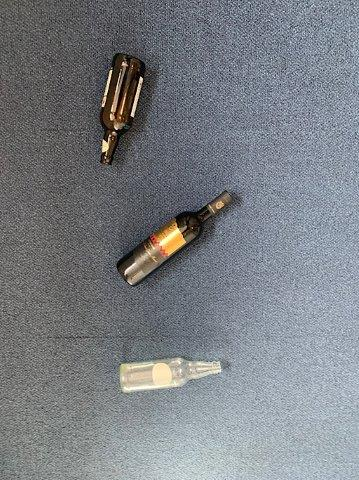botolkaca: (118, 191, 233, 285), (97, 54, 151, 166), (120, 357, 222, 393)
